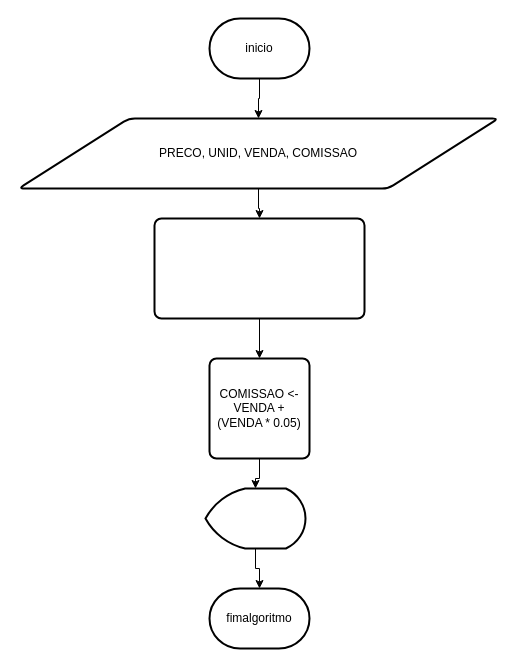
Image size: 516x666. Some labels were removed from this diagram. Each missing label, with the centre of its shape:
MOSTRE COMISSAO: the point at 255,518
VENDA <- PRECO_UNITARIO * QUANTVENDIDAS: the point at 259,268
